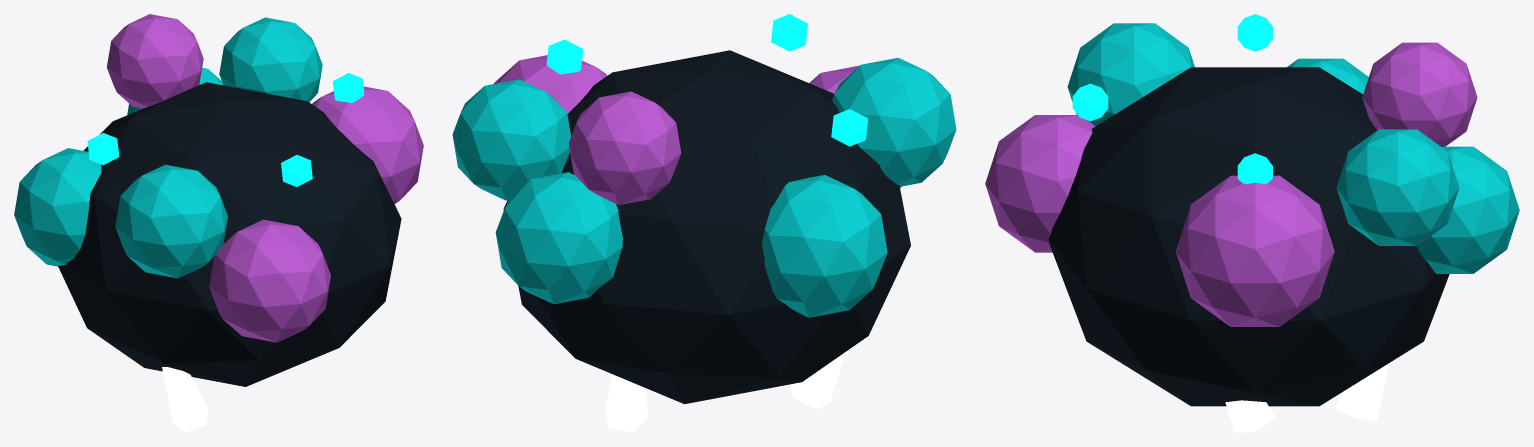
The model's file is alien_pod_shrub.glb.
3 renders of one model, left to right at view 1: azimuth 30°, elevation 25°; view 2: azimuth 150°, elevation 25°; view 3: azimuth 270°, elevation 25°, orthographic. The views are drawn at different scales.
Parts seen in each view (by area): view 1: alien_pod_shrub; view 2: alien_pod_shrub; view 3: alien_pod_shrub.
Part boxes in pixels (x1,y1,x2,y2): alien_pod_shrub: (14, 14, 423, 432); alien_pod_shrub: (452, 14, 956, 432); alien_pod_shrub: (985, 14, 1519, 432).
Size of the model in its own units: 0.8834 by 0.7512 by 0.974.
